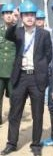boots: (0, 145, 16, 154), (0, 117, 8, 127)
hard-hat: (0, 2, 17, 12)
